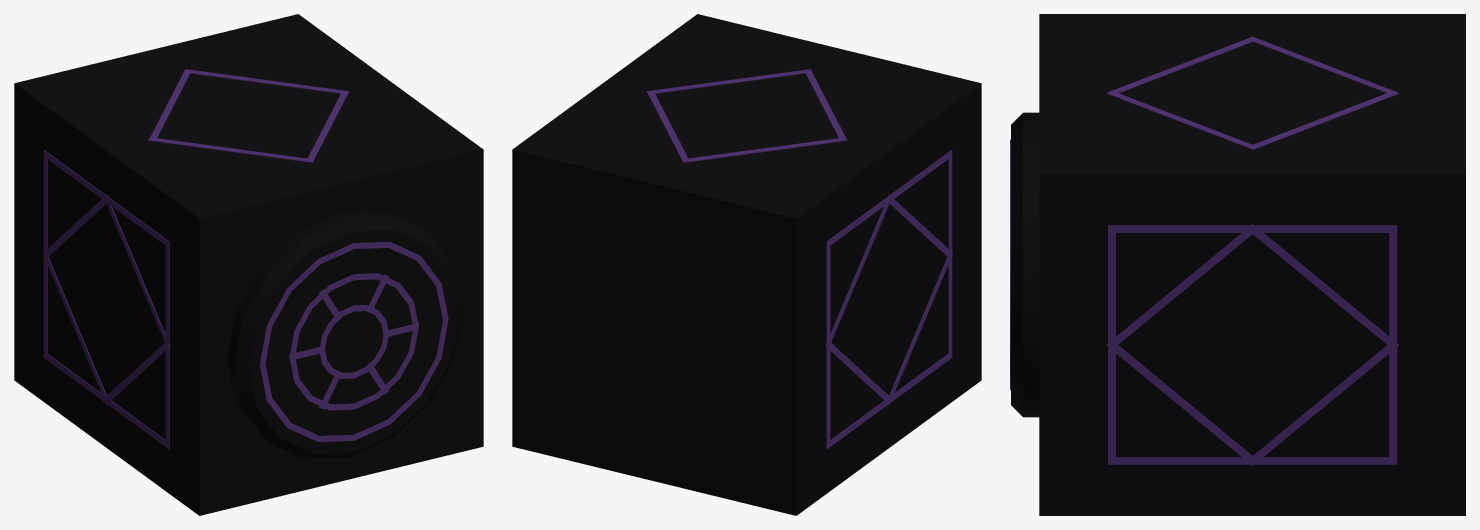
Rendered from z1_field.obj.
The picture shows the model from 3 angles, left to right: view 1: azimuth 30°, elevation 25°; view 2: azimuth 150°, elevation 25°; view 3: azimuth 270°, elevation 25°; orthographic projection. The views are drawn at different scales.
Visible parts, largest first — view 1: z1_field; view 2: z1_field; view 3: z1_field.
Boxes of the visible parts, <box> form: z1_field: <box>14,14,483,515</box>; z1_field: <box>512,14,981,515</box>; z1_field: <box>1010,14,1465,515</box>.
Bounding box in the file's own units: 1.25 × 1.25 × 1.5.
